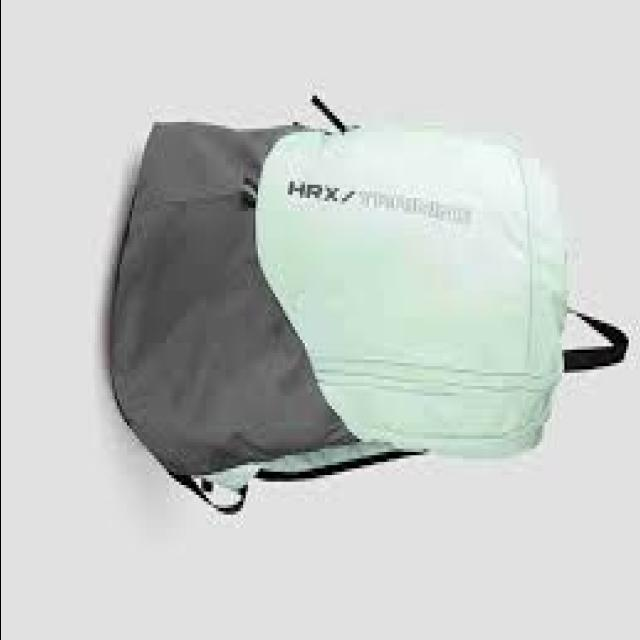backpack: (110, 97, 632, 516)
